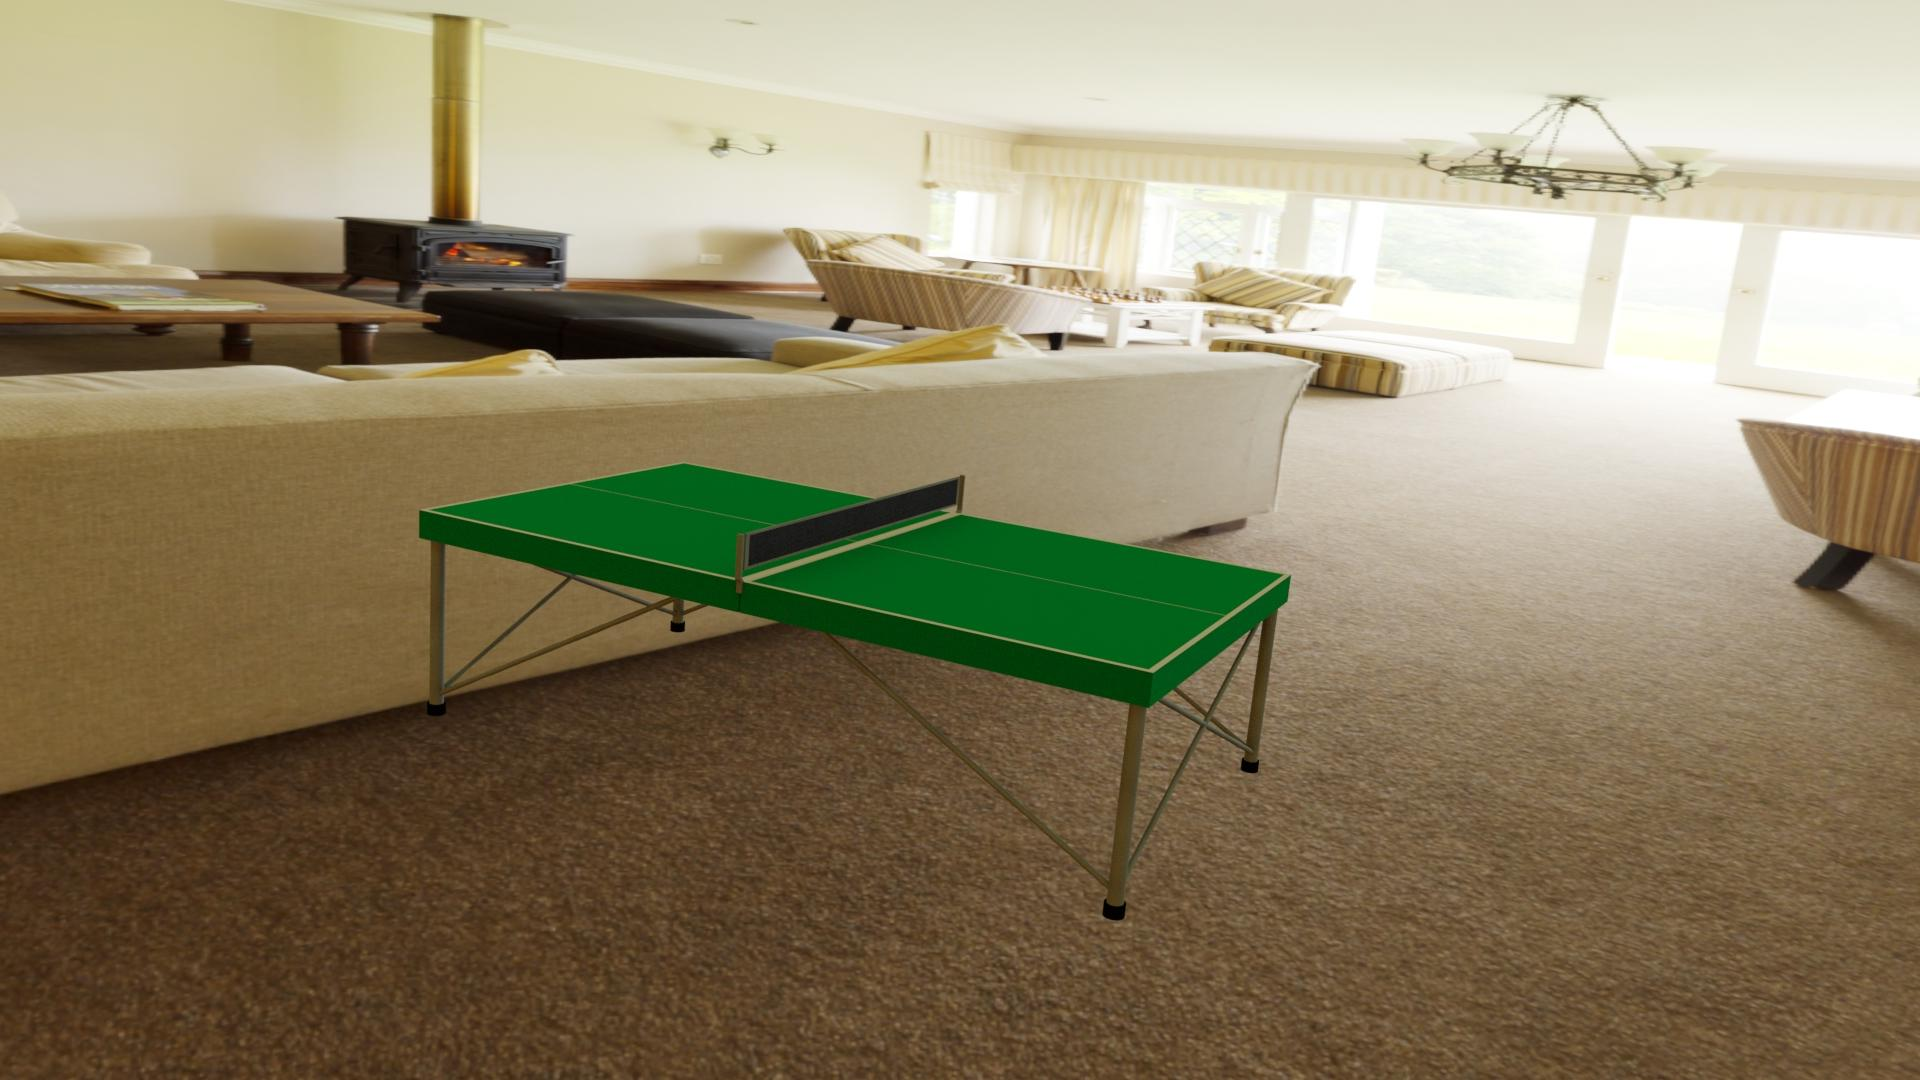table: (427, 463, 1284, 670)
